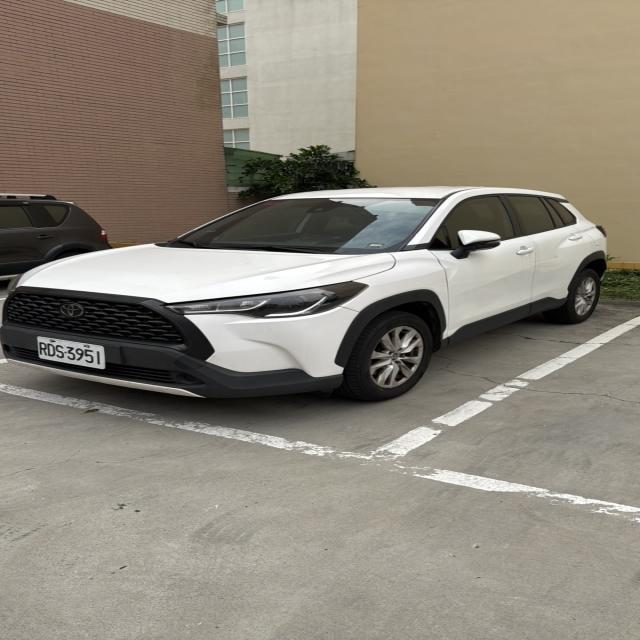license plate: (37, 338, 104, 368)
wheel: (338, 312, 430, 401)
